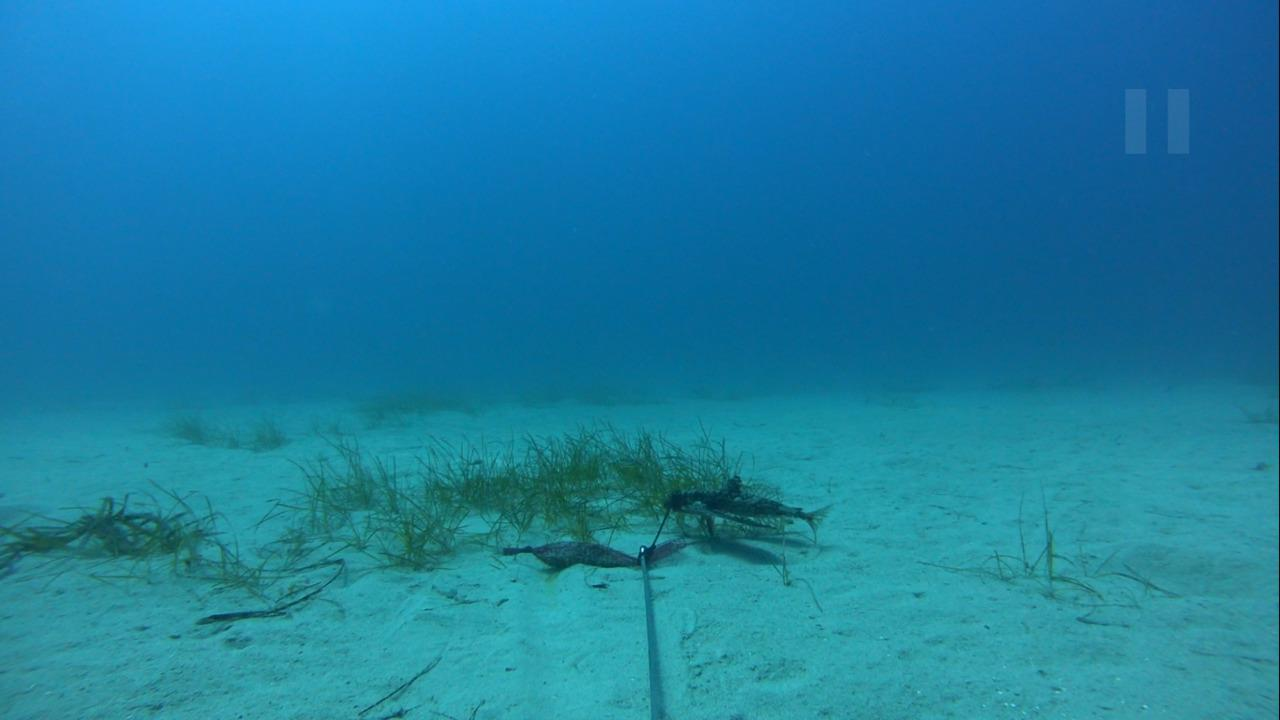dactylopterus: (662, 468, 828, 539)
